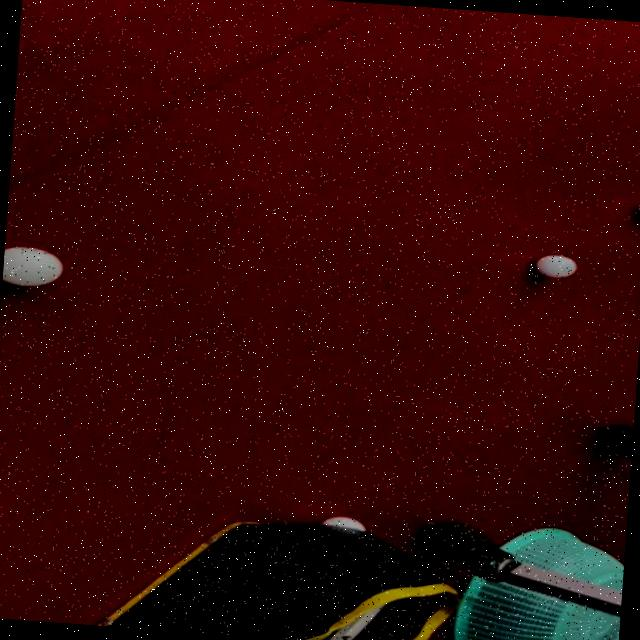ping-pong-ball: (2, 242, 65, 292), (522, 251, 580, 282)
